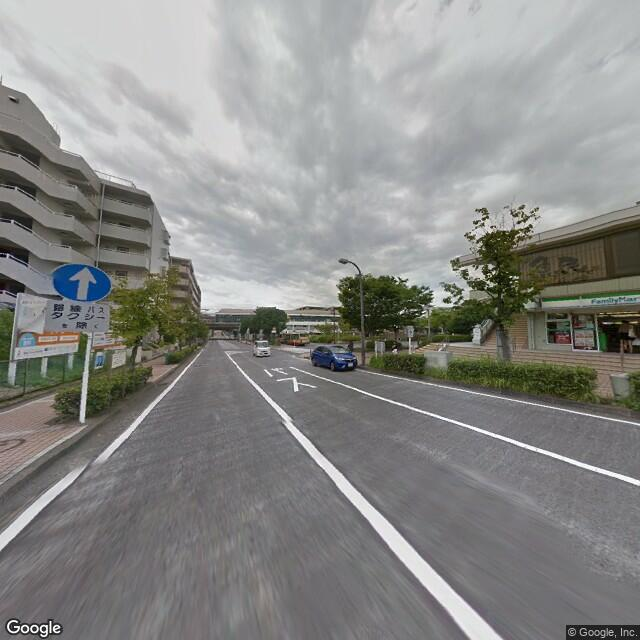family_mart: (542, 287, 639, 311)
